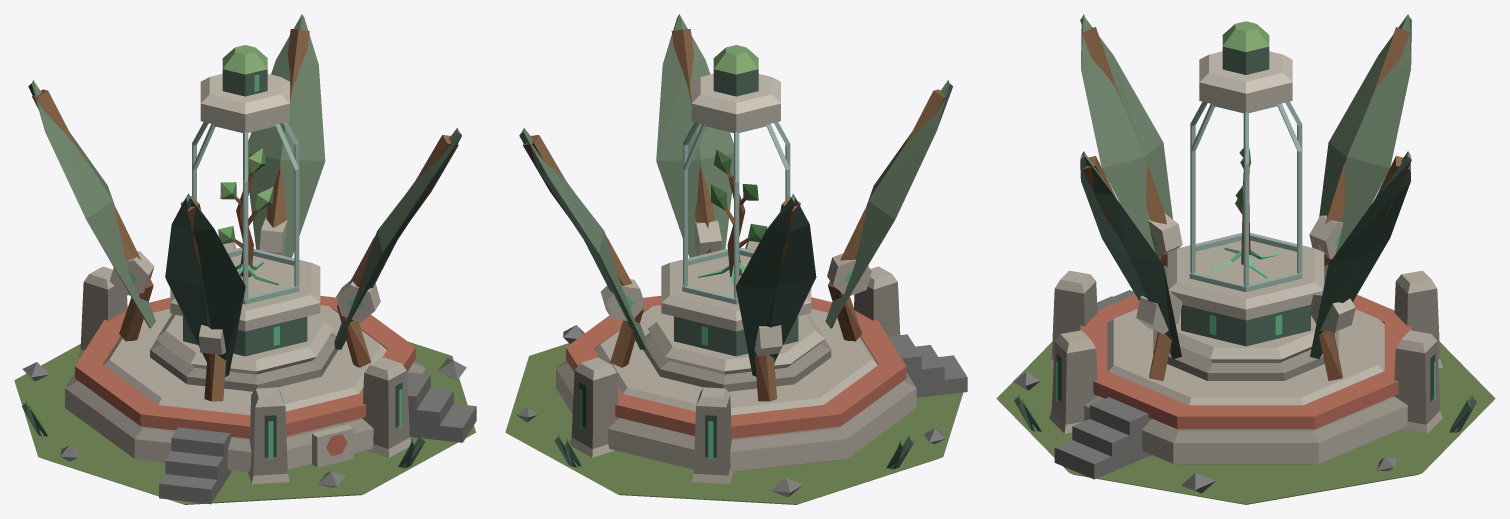
File: core_forest.glb
3 renders of one model, left to right at view 1: azimuth 30°, elevation 25°; view 2: azimuth 150°, elevation 25°; view 3: azimuth 270°, elevation 25°, orthographic. The views are drawn at different scales.
Visible parts, largest first — view 1: core_forest; view 2: core_forest; view 3: core_forest.
Boxes of the visible parts, <box> form: core_forest: <box>14,14,476,504</box>; core_forest: <box>505,14,967,504</box>; core_forest: <box>996,14,1495,504</box>.
Size of the model in its own units: 1.42 by 1.18 by 1.42.
